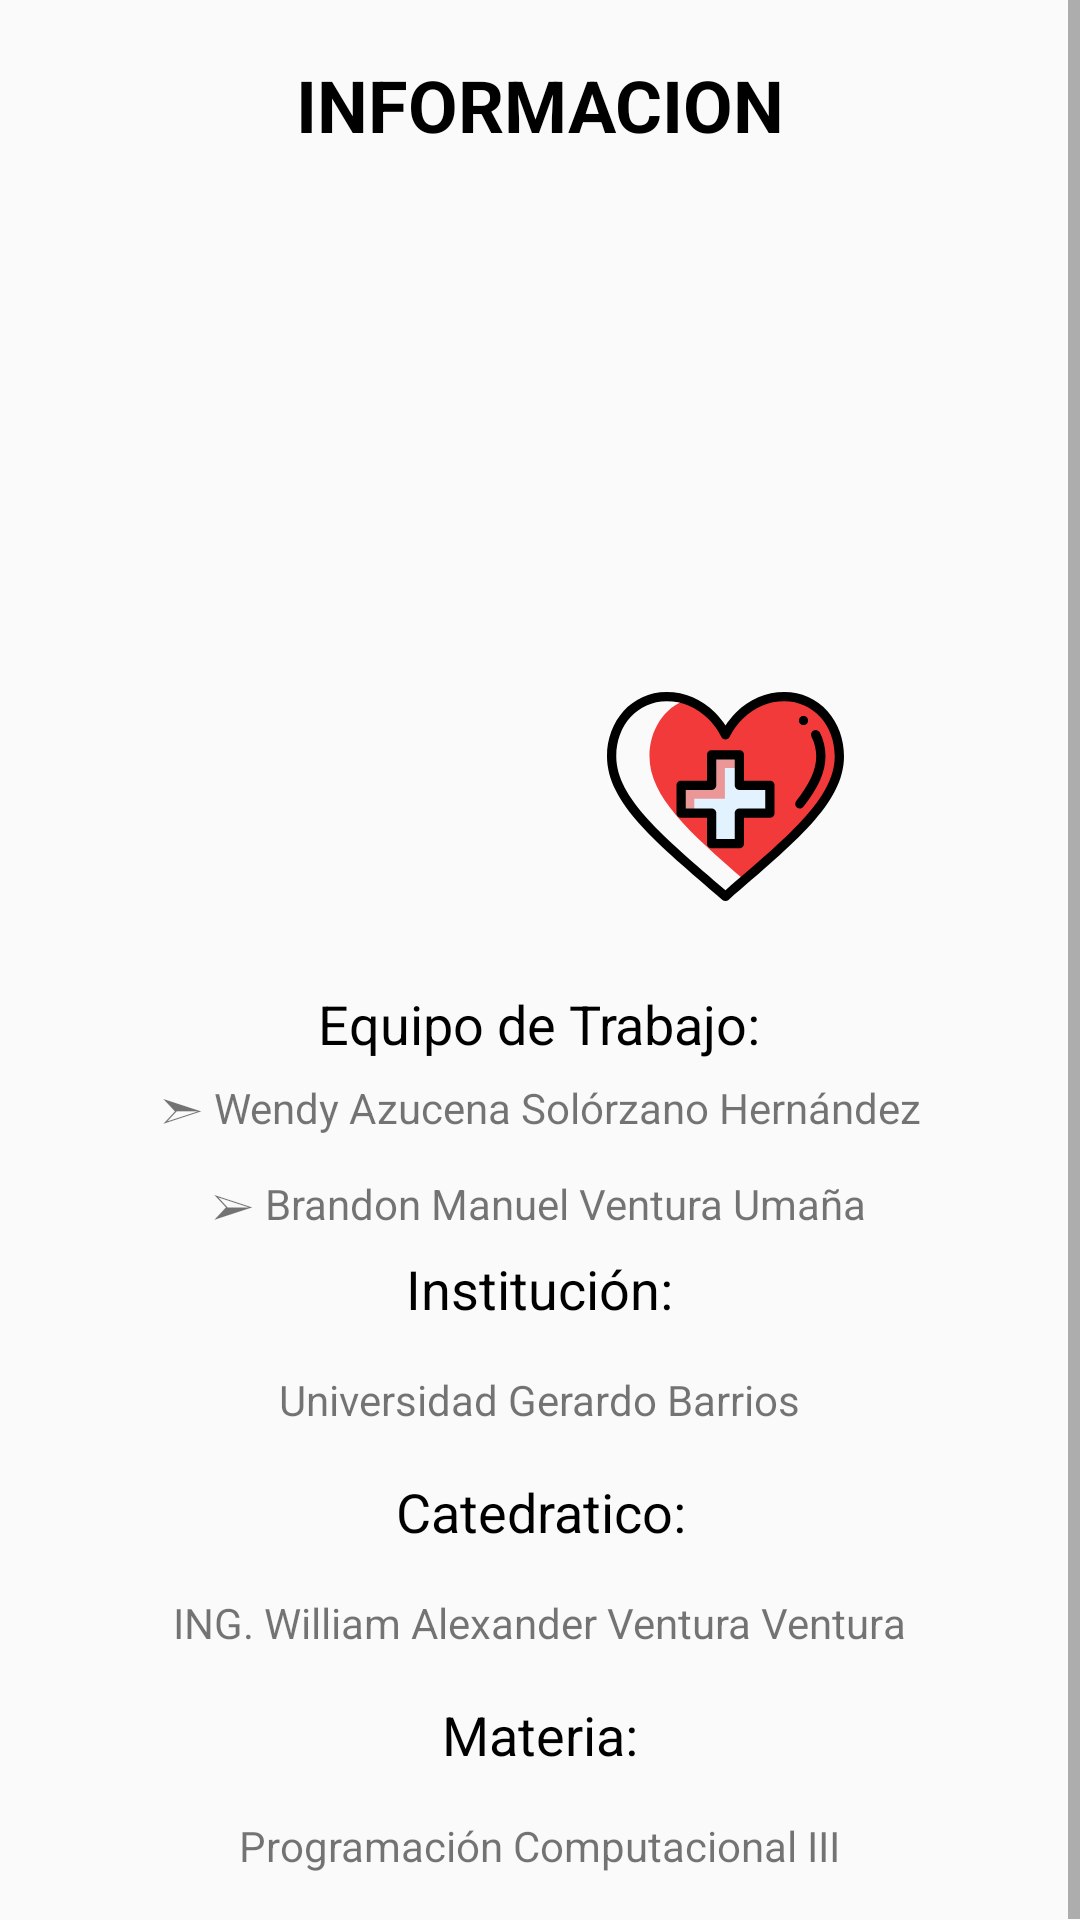

Screen size 1080px x 1920px. Icon name, then its center in pixels as [x,y]:
salud: [725,796]
